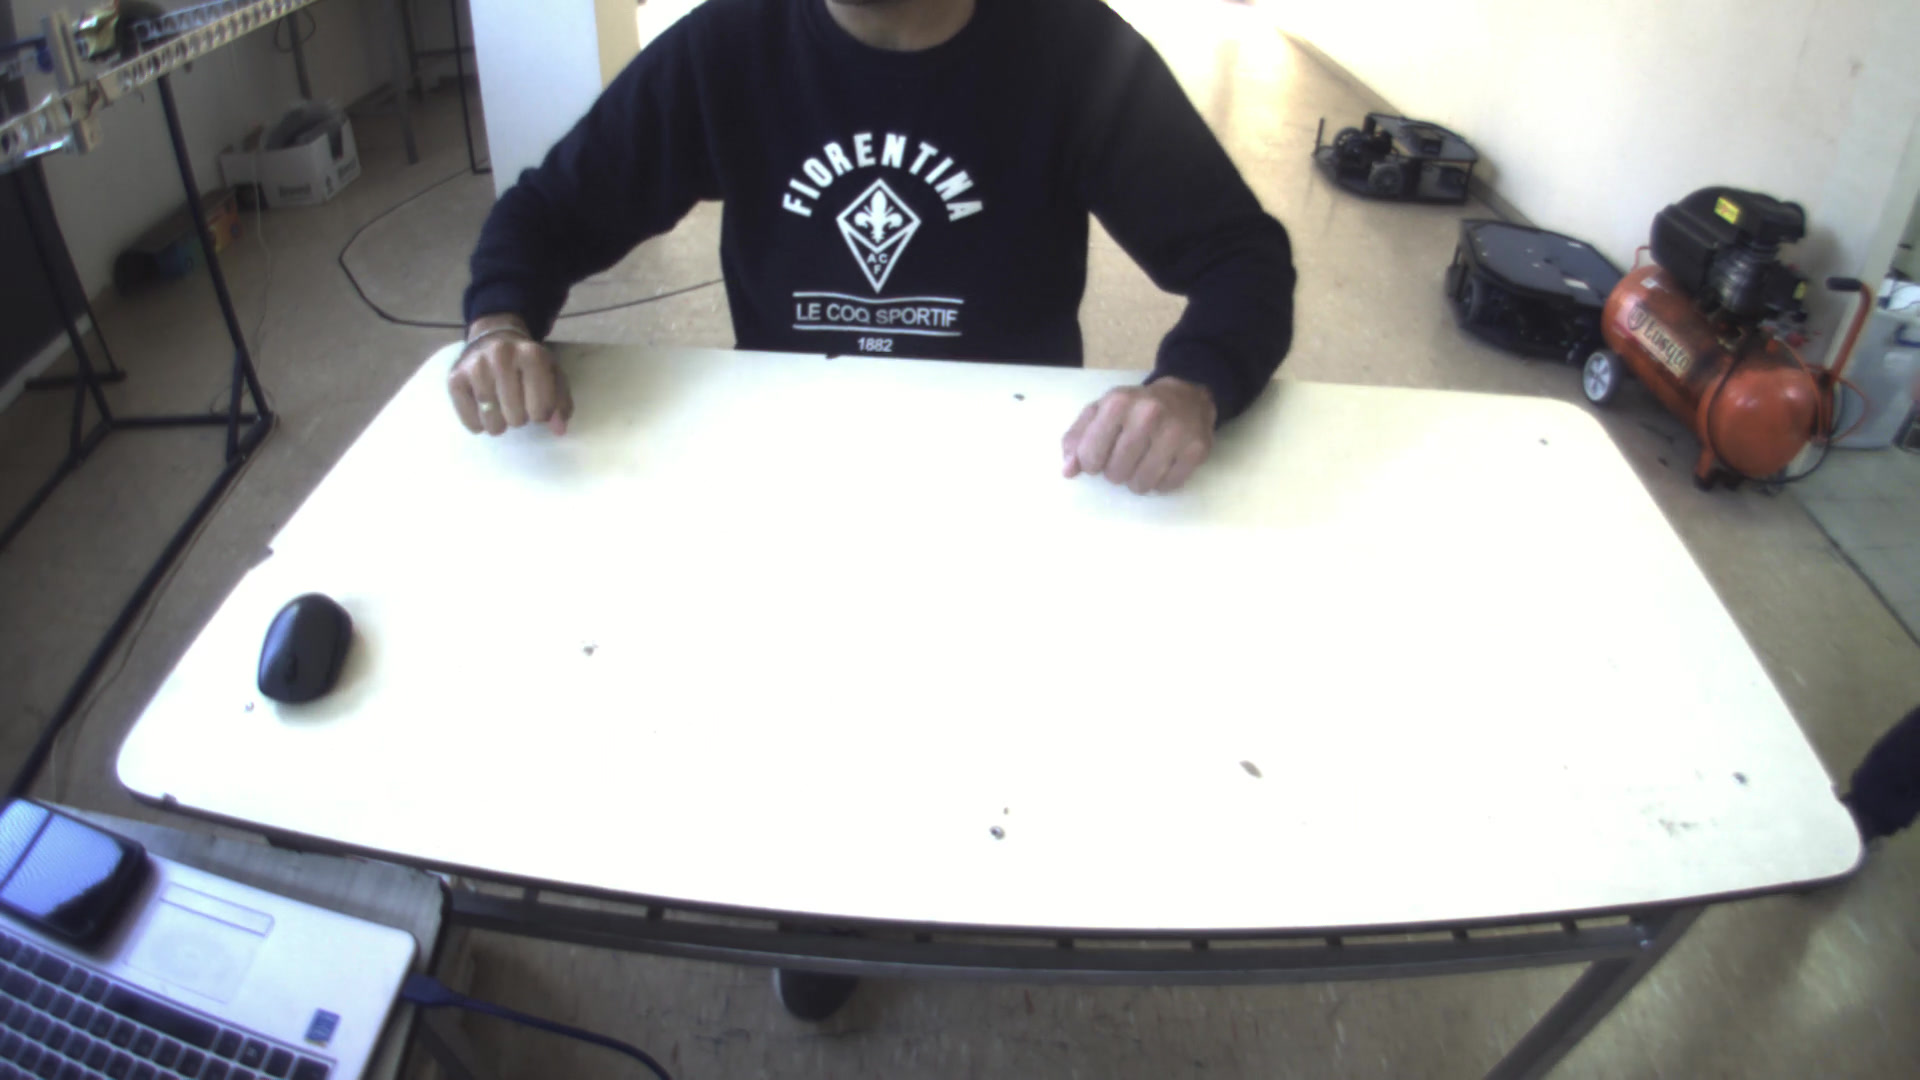hand: (1054, 359, 1229, 496), (438, 307, 572, 430)
